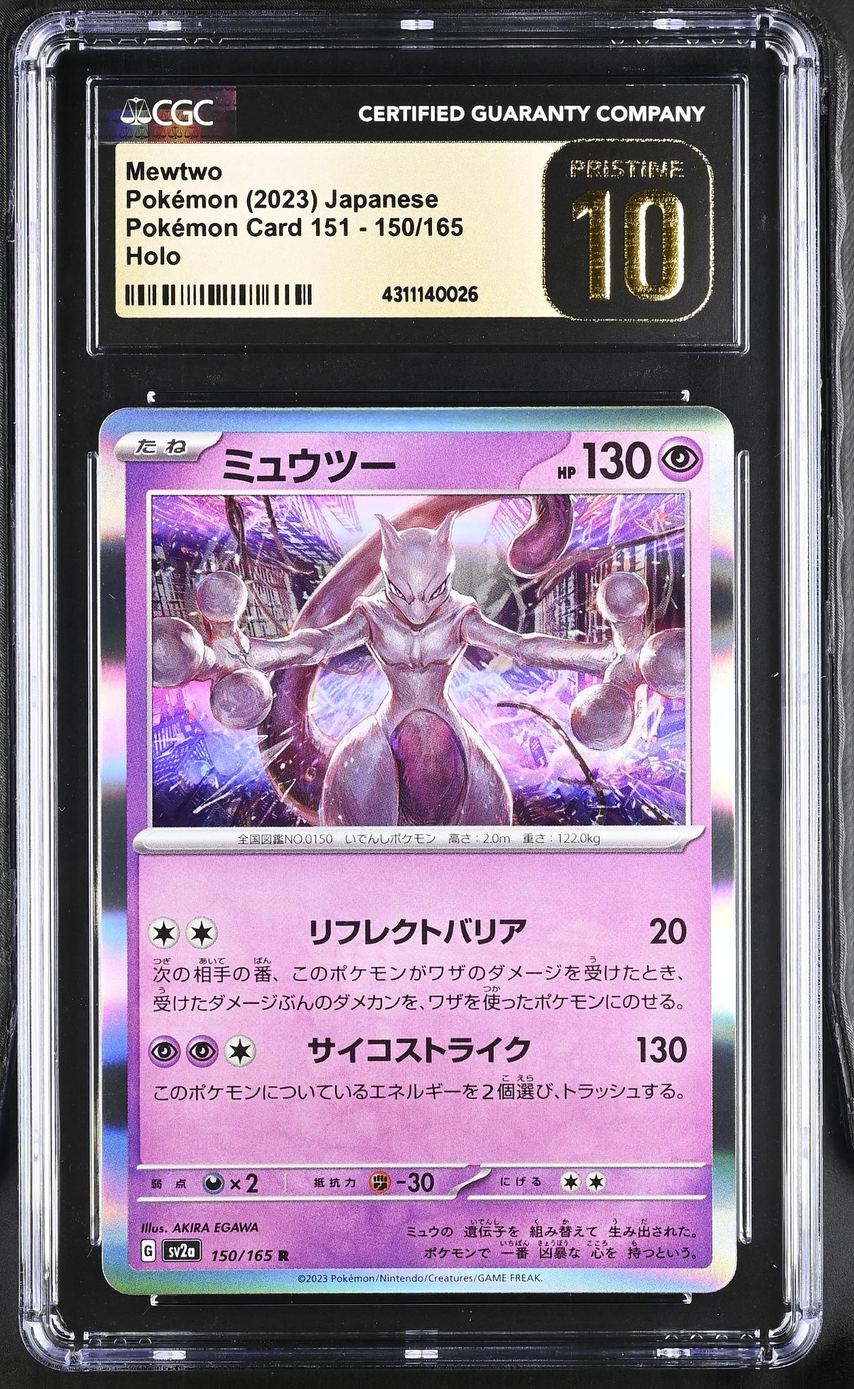card-2UtV: (99, 405, 738, 1295)
